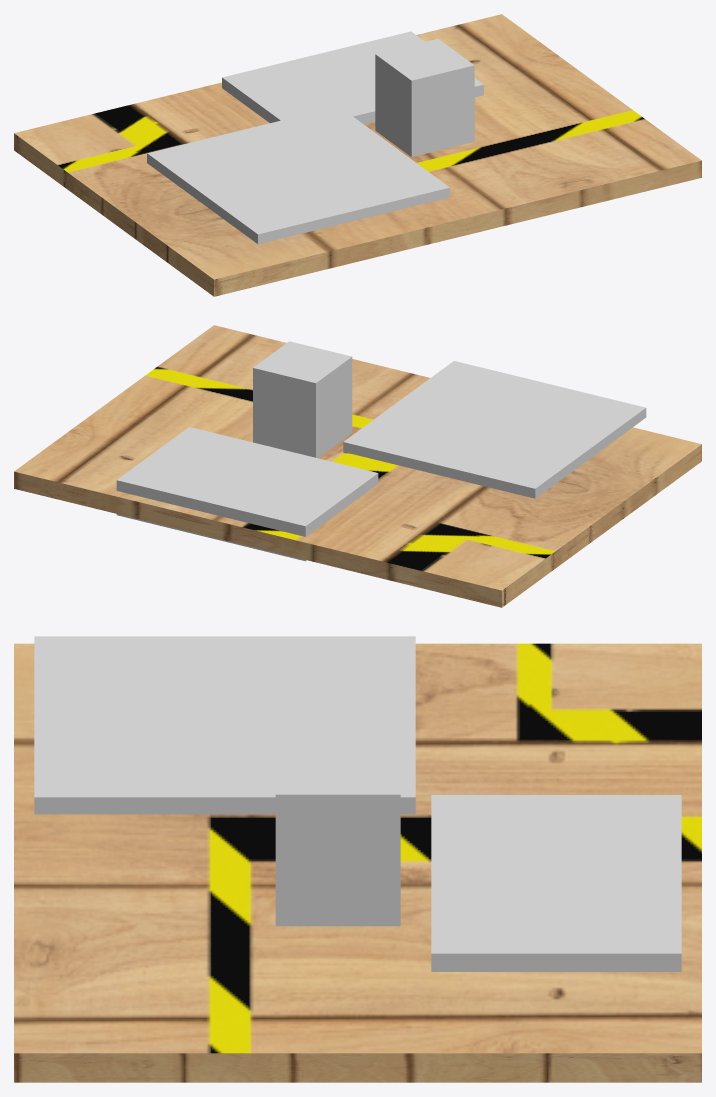
The model's file is trolley_base.dae.
3 views of the same model, one above another, from view 1: azimuth 30°, elevation 25°; view 2: azimuth 150°, elevation 25°; view 3: azimuth 270°, elevation 25° (orthographic). The views are drawn at different scales.
Parts seen in each view (by area): view 1: Cube.001, Marking, bot, trolley, Cube; view 2: Cube.001, Marking, trolley, bot, Cube; view 3: Cube.001, Cube, Marking, trolley, bot.
Part boxes in pixels (x1=…): Cube.001: x1=14, y1=14, x2=701, y2=296; Marking: x1=147, y1=106, x2=449, y2=244; bot: x1=375, y1=39, x2=474, y2=156; trolley: x1=222, y1=31, x2=483, y2=124; Cube: x1=16, y1=14, x2=612, y2=296; Cube.001: x1=14, y1=325, x2=701, y2=607; Marking: x1=343, y1=361, x2=646, y2=498; trolley: x1=116, y1=427, x2=378, y2=561; bot: x1=253, y1=341, x2=352, y2=458; Cube: x1=106, y1=325, x2=701, y2=607; Cube.001: x1=14, y1=643, x2=701, y2=1082; Cube: x1=14, y1=643, x2=701, y2=1082; Marking: x1=34, y1=636, x2=415, y2=814; trolley: x1=431, y1=795, x2=681, y2=971; bot: x1=275, y1=741, x2=400, y2=926.
Size of the model in its own units: 1.55 by 1.1 by 0.32.
Materials: 3 (2 with a texture image).
